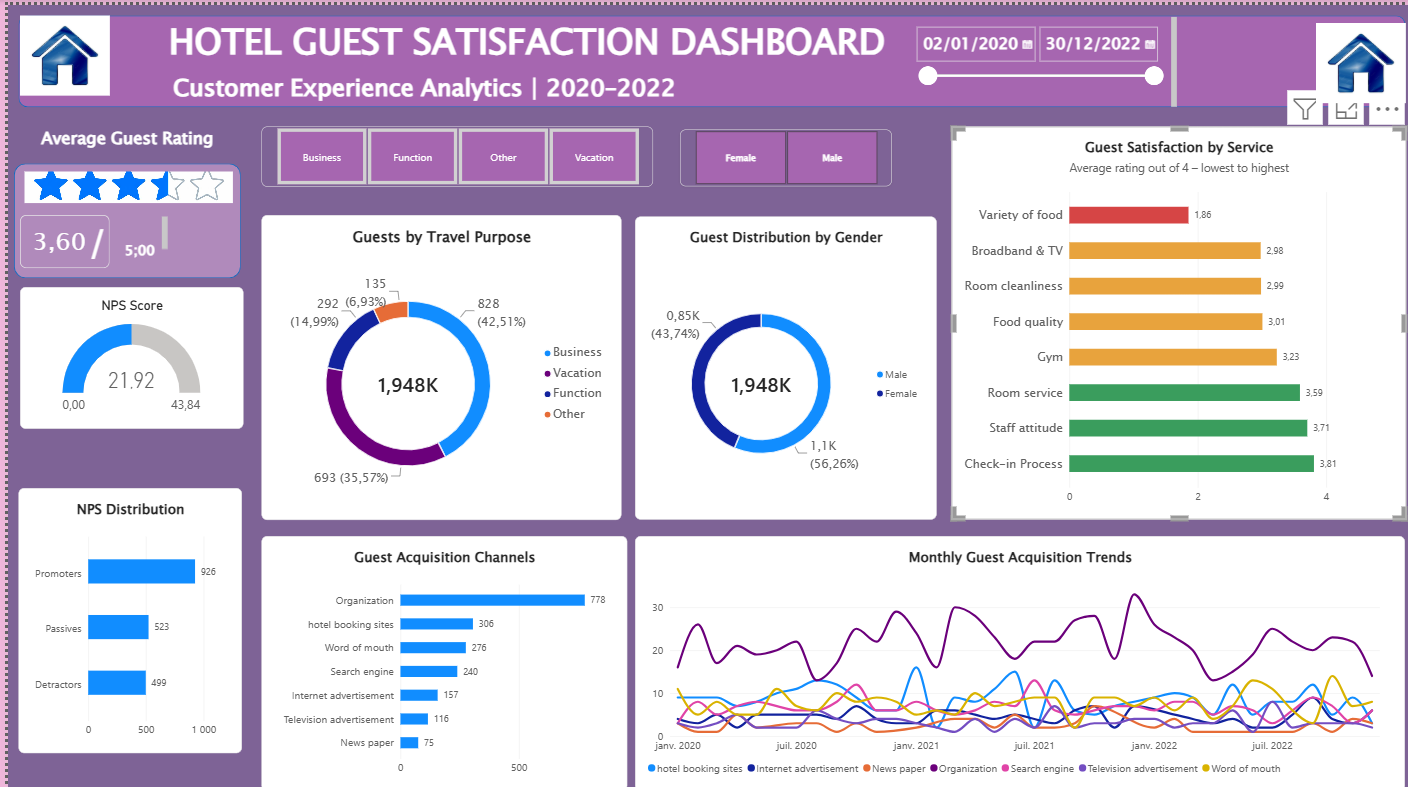

The page's visual inventory and layout, read from the dashboard file:
{"tool":"powerbi","page":{"name":"Page 1","canvas":[1920,1080],"ordinal":0},"visuals":[{"type":"shape","box":[13.7,13.7,1903.2,125.8],"z":0},{"type":"slicer","fields":{"Values":["General.Purpose"]},"box":[347.7,167,537.6,82.4],"z":1000},{"type":"slicer","fields":{"Values":["General.Gender"]},"box":[921.9,171.6,290.5,77.8],"z":2000},{"type":"gauge","fields":{"Y":["General.NPS Score"]},"box":[16.5,417.9,306.5,194.4],"z":3000},{"type":"clusteredBarChart","title":"NPS Distribution","fields":{"Category":["General.NPS"],"Y":["CountNonNull(General.NPS)"]},"box":[13.7,663.4,306.5,363.7],"z":4000},{"type":"donutChart","title":"Guests by Travel Purpose","fields":{"Category":["General.Purpose"],"Y":["CountNonNull(General.Purpose)"]},"box":[347.7,288.2,494.1,418.6],"z":5000},{"type":"donutChart","title":"Guest Distribution by Gender","fields":{"Category":["General.Gender"],"Y":["CountNonNull(General.Gender)"]},"box":[860.1,290.5,414,416.3],"z":6000},{"type":"clusteredBarChart","title":"Guest Acquisition Channels","fields":{"Category":["General.Source"],"Y":["CountNonNull(General.Source)"]},"box":[347.5,729.1,502,349.8],"z":7000},{"type":"lineChart","title":"Monthly Guest Acquisition Trends","fields":{"Category":["General.Checkout Date.Variation.Hiérarchie de dates.Année","General.Checkout Date.Variation.Hiérarchie de dates.Mois"],"Series":["General.Source"],"Y":["Feedback.Nombre de réponses"]},"box":[860.1,729.7,1056.8,350],"z":8000},{"type":"clusteredBarChart","title":"Guest Satisfaction by Service","fields":{"Category":["Feedback.Feedback"],"Y":["Feedback.Note moyenne"]},"box":[1294.8,166.7,623.7,539.3],"z":9000},{"type":"shape","title":"Average Guest Rating","box":[9.2,167,311.1,208.2],"z":10000},{"type":"cardVisual","fields":{"Data":["Avg(General.Overall Experience)"]},"box":[16,288.2,123.5,73.2],"z":11000},{"type":"textbox","box":[109.8,290.5,109.8,57.2],"z":12000},{"type":"textbox","box":[196.5,12.8,1408.7,127.6],"z":13000},{"type":"slicer","fields":{"Values":["General.Checkout Date"]},"box":[1239.8,25.2,350,105.2],"z":14000},{"type":"image","box":[22.9,228.8,285.9,43.5],"z":15000},{"type":"image","box":[16,13.7,123.5,109.8],"z":15001},{"type":"image","box":[1795.7,25.2,123.5,109.8],"z":15002}]}

Visuals, with their boxes in screenshot pixels (x1, y1, x2, y2), scaled from the page's 1920x1080 canvas onto the 1408x787 screenshot:
shape: <box>10,10,1406,102</box>
slicer - General.Purpose: <box>255,122,649,182</box>
slicer - General.Gender: <box>676,125,889,182</box>
gauge - General.NPS Score: <box>12,305,237,446</box>
"NPS Distribution" clusteredBarChart: <box>10,483,235,748</box>
"Guests by Travel Purpose" donutChart: <box>255,210,617,515</box>
"Guest Distribution by Gender" donutChart: <box>631,212,934,515</box>
"Guest Acquisition Channels" clusteredBarChart: <box>255,531,623,786</box>
"Monthly Guest Acquisition Trends" lineChart: <box>631,532,1406,786</box>
"Guest Satisfaction by Service" clusteredBarChart: <box>950,121,1407,514</box>
"Average Guest Rating" shape: <box>7,122,235,273</box>
cardVisual - Avg(General.Overall Experience): <box>12,210,102,263</box>
textbox: <box>81,212,161,253</box>
textbox: <box>144,9,1177,102</box>
slicer - General.Checkout Date: <box>909,18,1166,95</box>
image: <box>17,167,226,198</box>
image: <box>12,10,102,90</box>
image: <box>1317,18,1407,98</box>
